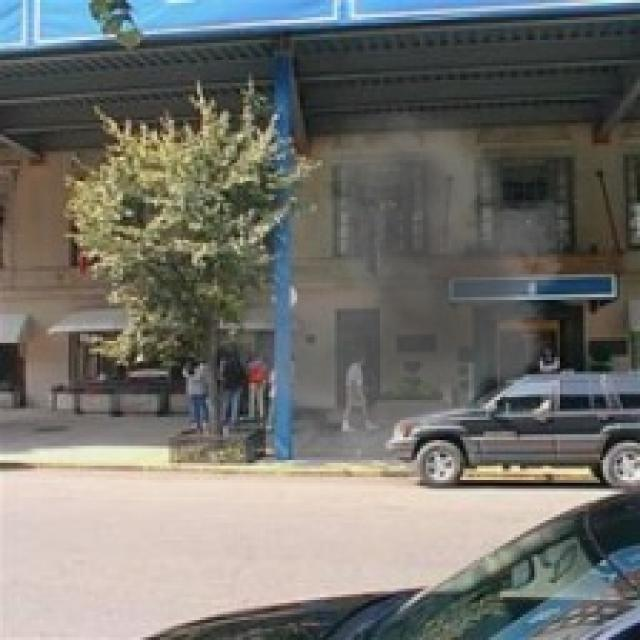smoke: (197, 109, 583, 468)
